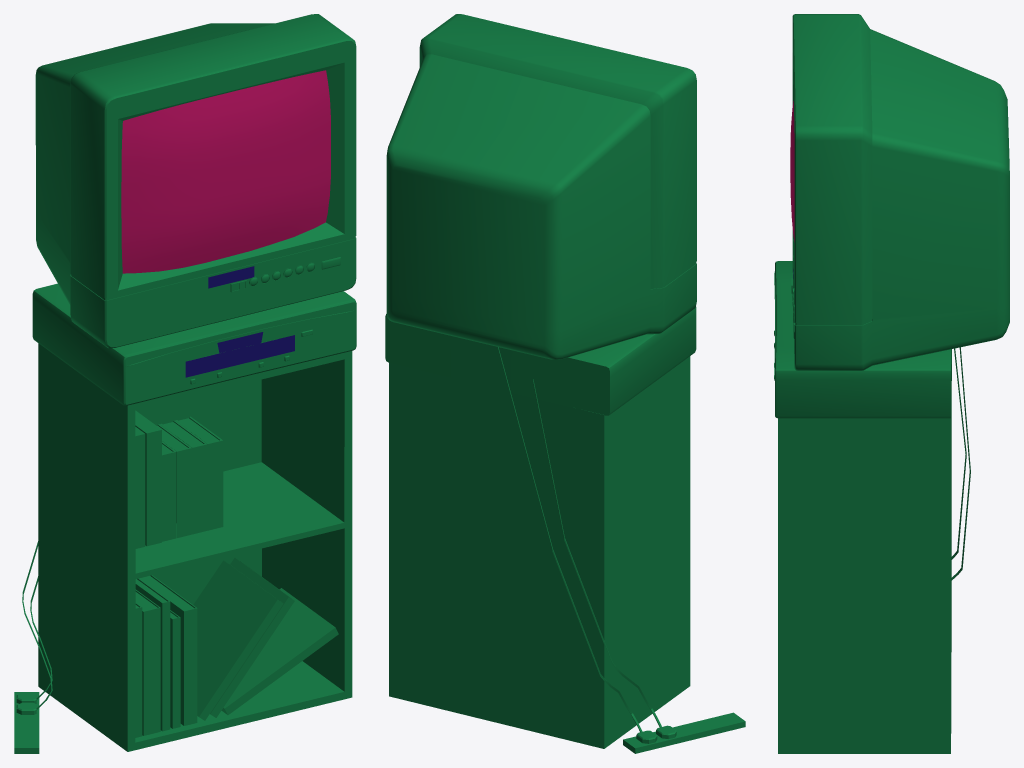
The picture shows the model from 3 angles, left to right: view 1: azimuth 30°, elevation 25°; view 2: azimuth 150°, elevation 25°; view 3: azimuth 270°, elevation 25°; orthographic projection. The views are drawn at different scales.
Parts seen in each view (by area): view 1: Object604; view 2: Object604; view 3: Object604.
Boxes of the visible parts, box(x1,y1,x2,y2) form: Object604: box(14, 14, 356, 753); Object604: box(385, 14, 745, 753); Object604: box(774, 14, 1009, 753).
Size of the model in its own units: 75.27 by 145 by 49.02.
